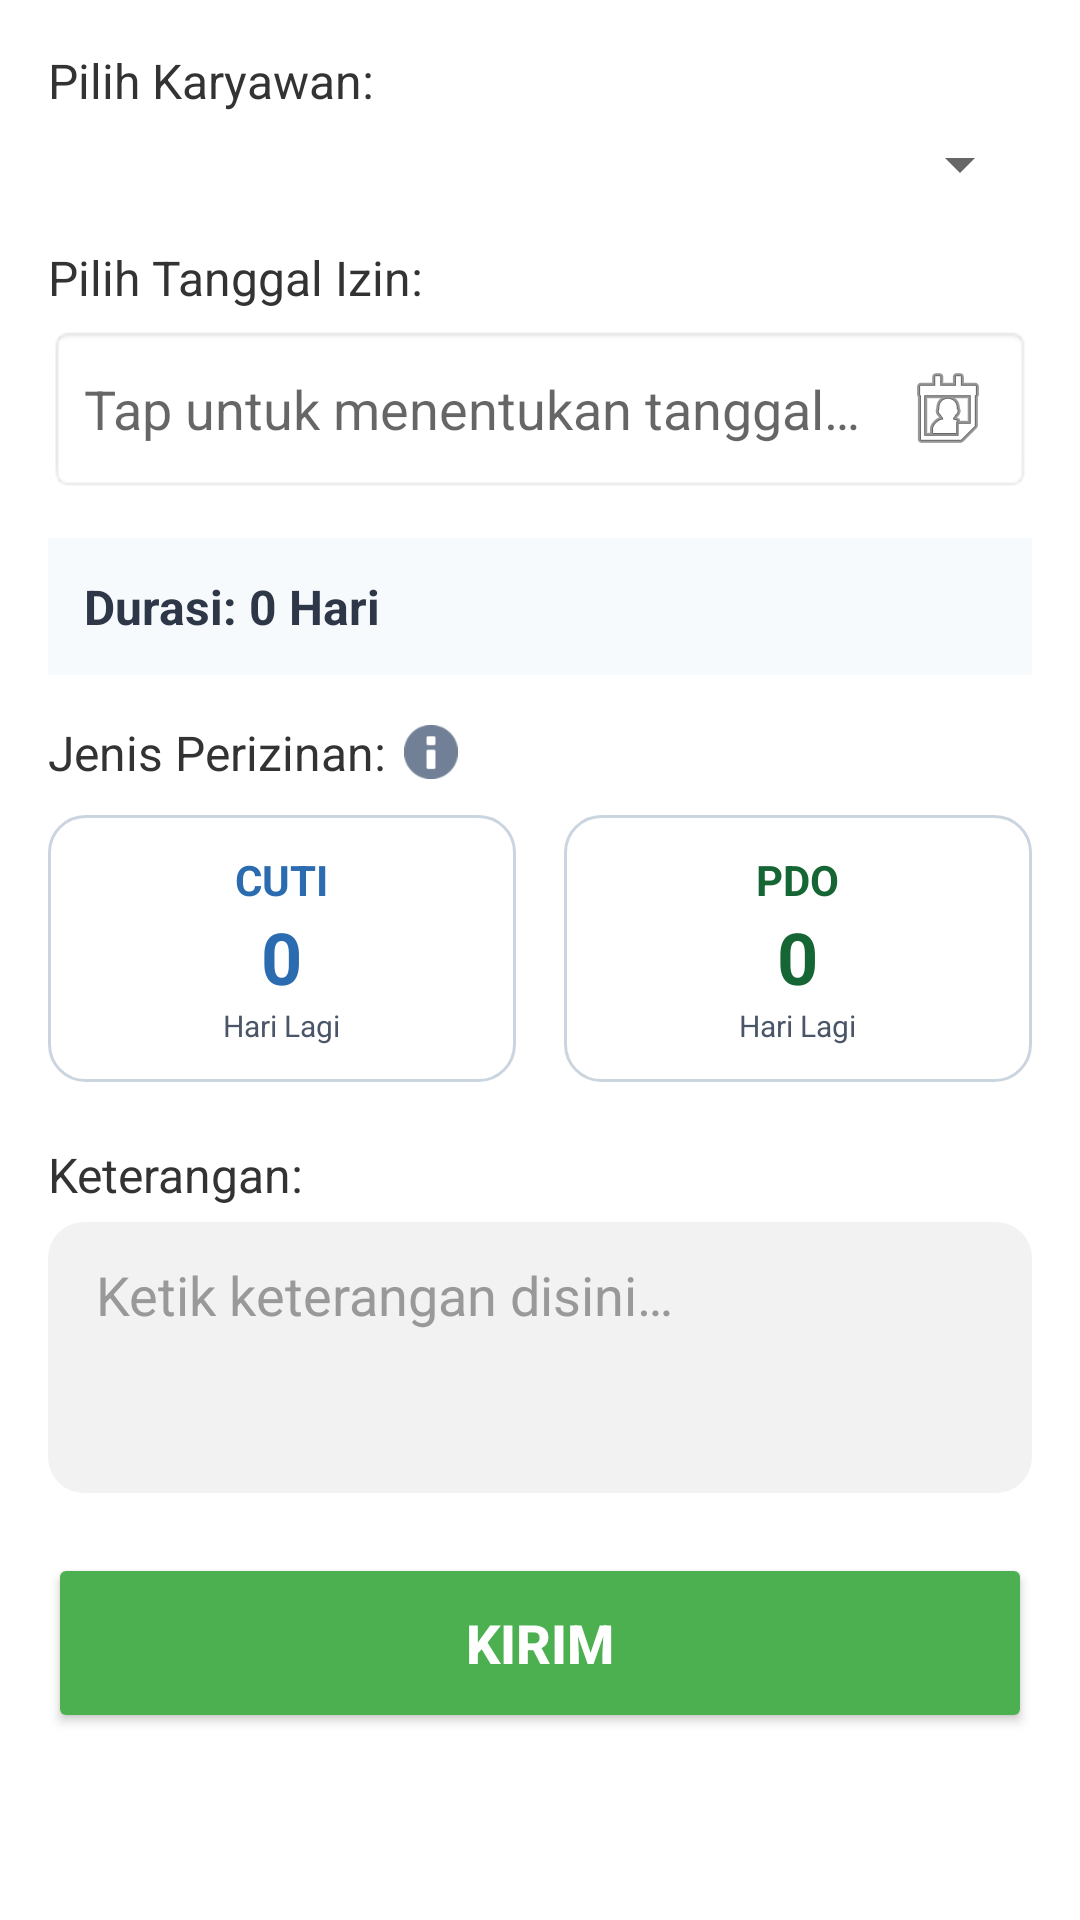

Icons on this 1080×1920 Android screen, each with its box as (x1, y1, x2, y2):
Rules Info: (404, 725, 458, 779)
